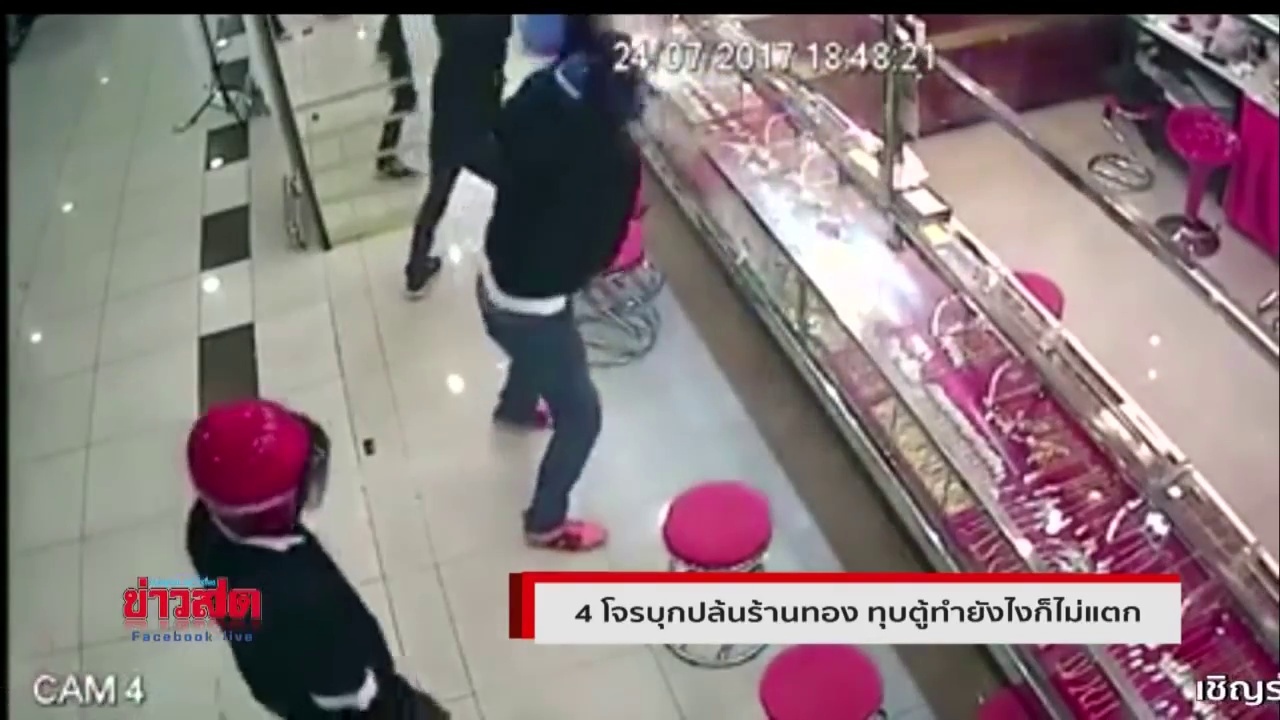helmet: (186, 400, 330, 530)
